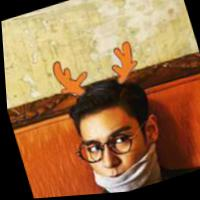WRONG: (72, 115, 159, 196)
